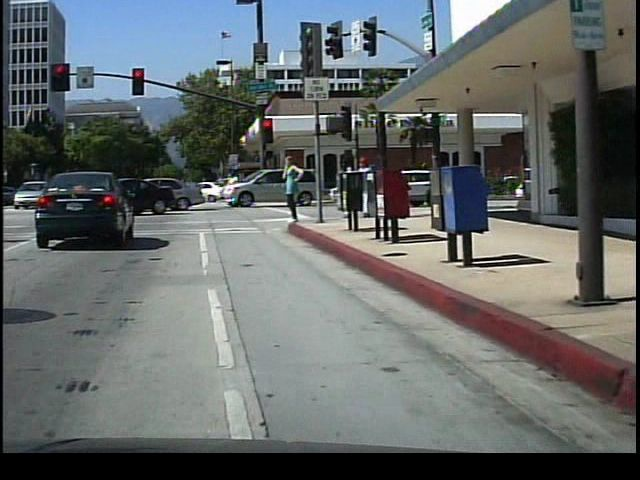person: (282, 149, 311, 225), (358, 151, 382, 219), (340, 151, 362, 218)
